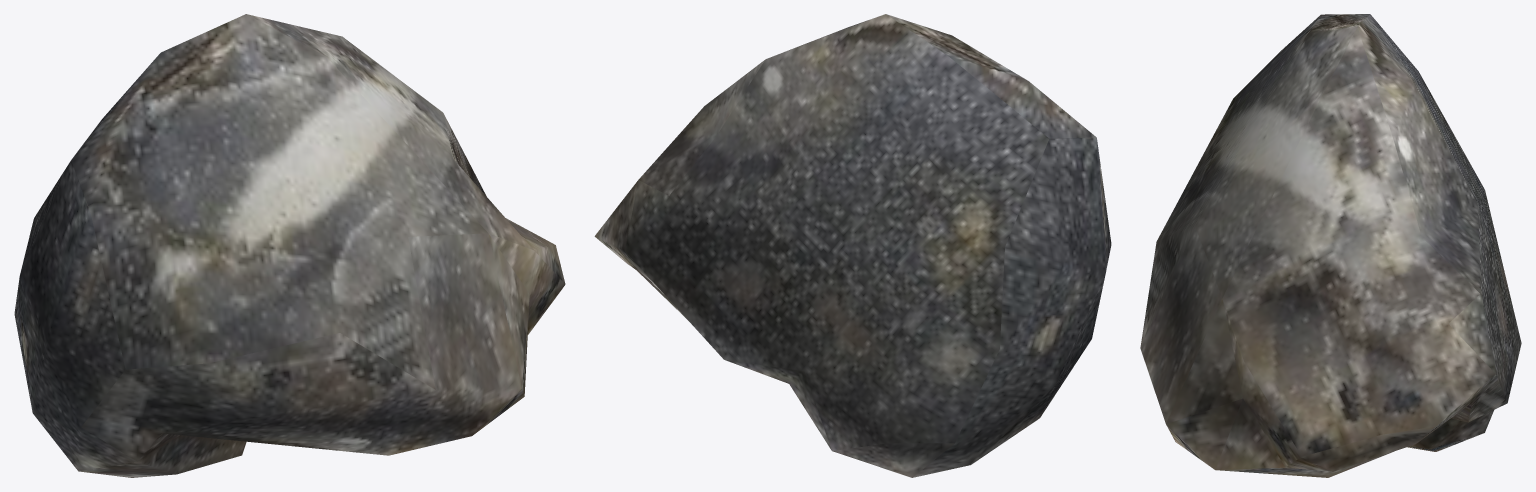
File: rock.glb
3 views of the same model, side by side, from view 1: azimuth 30°, elevation 25°; view 2: azimuth 150°, elevation 25°; view 3: azimuth 270°, elevation 25° (orthographic). The views are drawn at different scales.
Visible parts, largest first — view 1: rock082_lod4; view 2: rock082_lod4; view 3: rock082_lod4.
Part boxes in pixels (x1=…): rock082_lod4: x1=14, y1=14, x2=565, y2=477; rock082_lod4: x1=594, y1=14, x2=1111, y2=477; rock082_lod4: x1=1140, y1=14, x2=1521, y2=477.
Bounding box in the file's own units: 1 × 0.8674 × 0.6915.
1 material, 1 textured.
